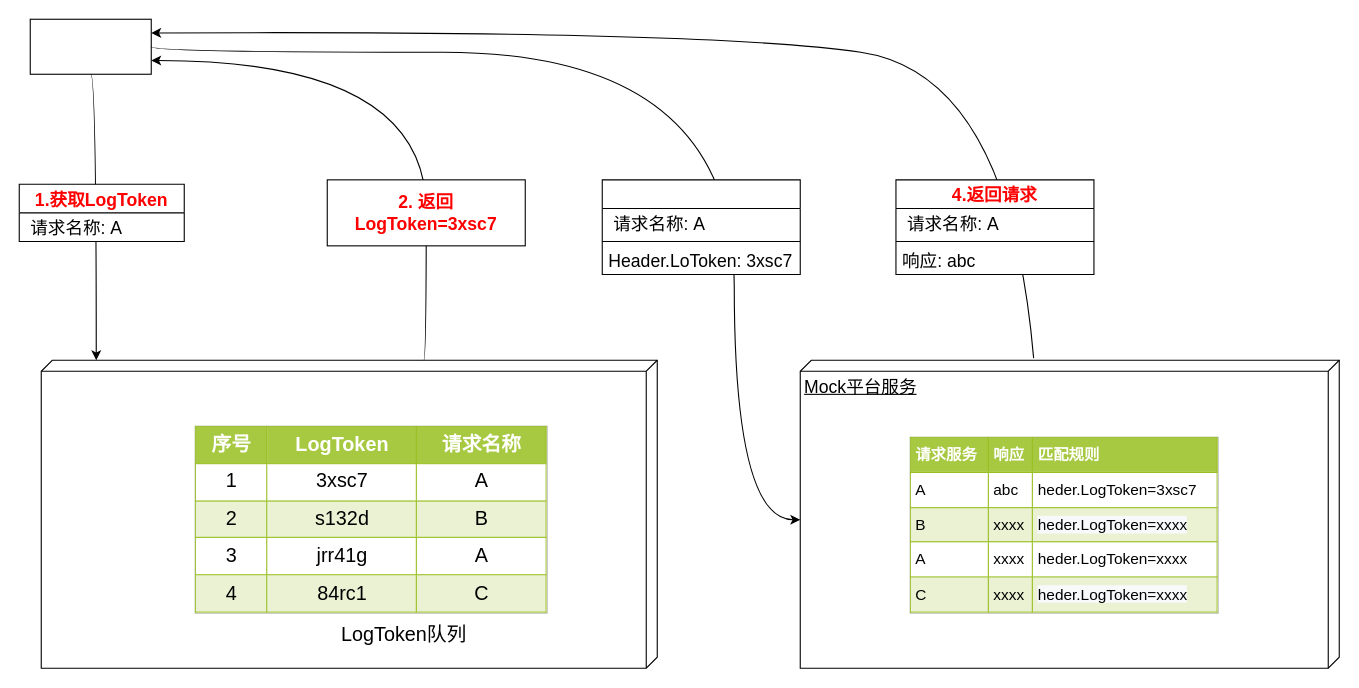
Image size: 1359x688. Some labels were removed from this diagram. Each missing label, with the box of its shape:
3.发起请求: (601, 179, 800, 274)
回放App: (29, 18, 151, 74)
回放平台服务: (40, 359, 657, 668)
